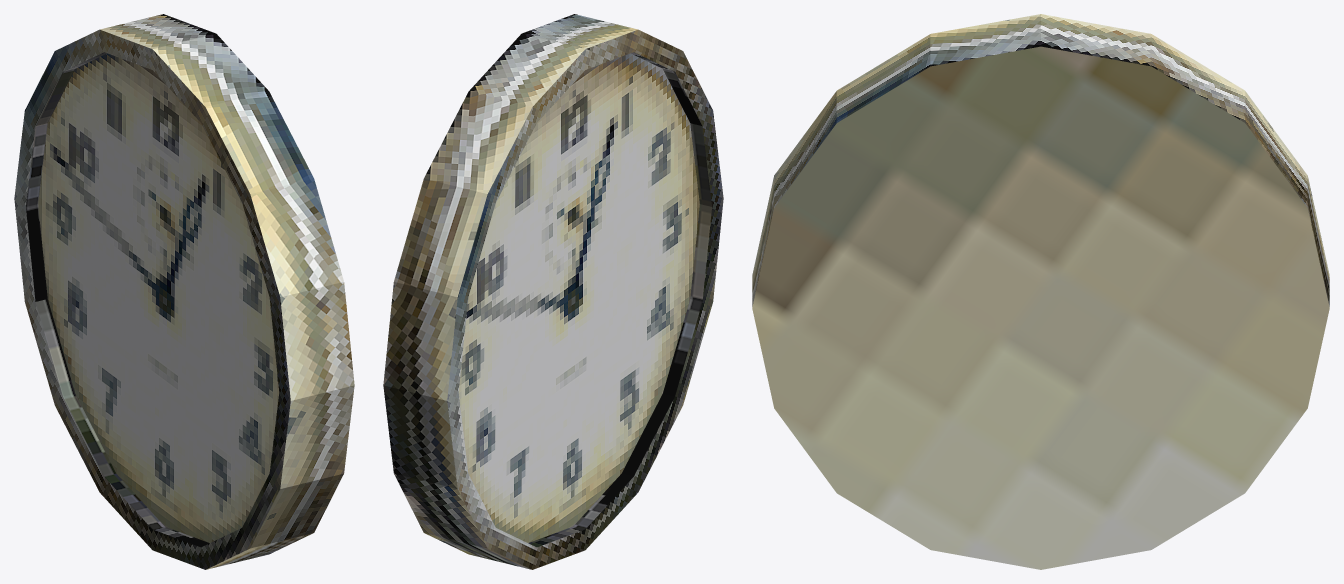
Rendered from SM_Clock.fbx.
3 renders of one model, left to right at view 1: azimuth 30°, elevation 25°; view 2: azimuth 150°, elevation 25°; view 3: azimuth 270°, elevation 25°, orthographic. The views are drawn at different scales.
Parts seen in each view (by area): view 1: SM_Clock; view 2: SM_Clock; view 3: SM_Clock.
Part boxes in pixels (x1,y1,x2,y2): SM_Clock: (14,14,354,569); SM_Clock: (383,14,723,569); SM_Clock: (752,14,1329,569).
Bounding box in the file's own units: 4 × 30 × 30.
